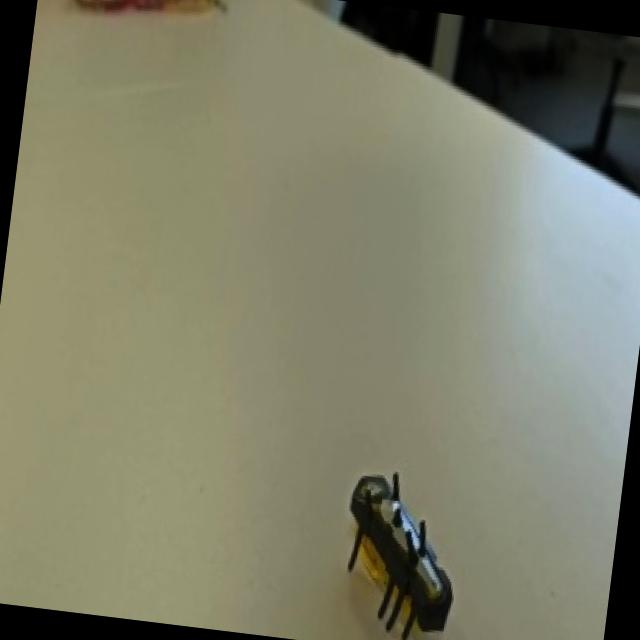6_NanoBug_GrisOscuro: (281, 414, 491, 640)
